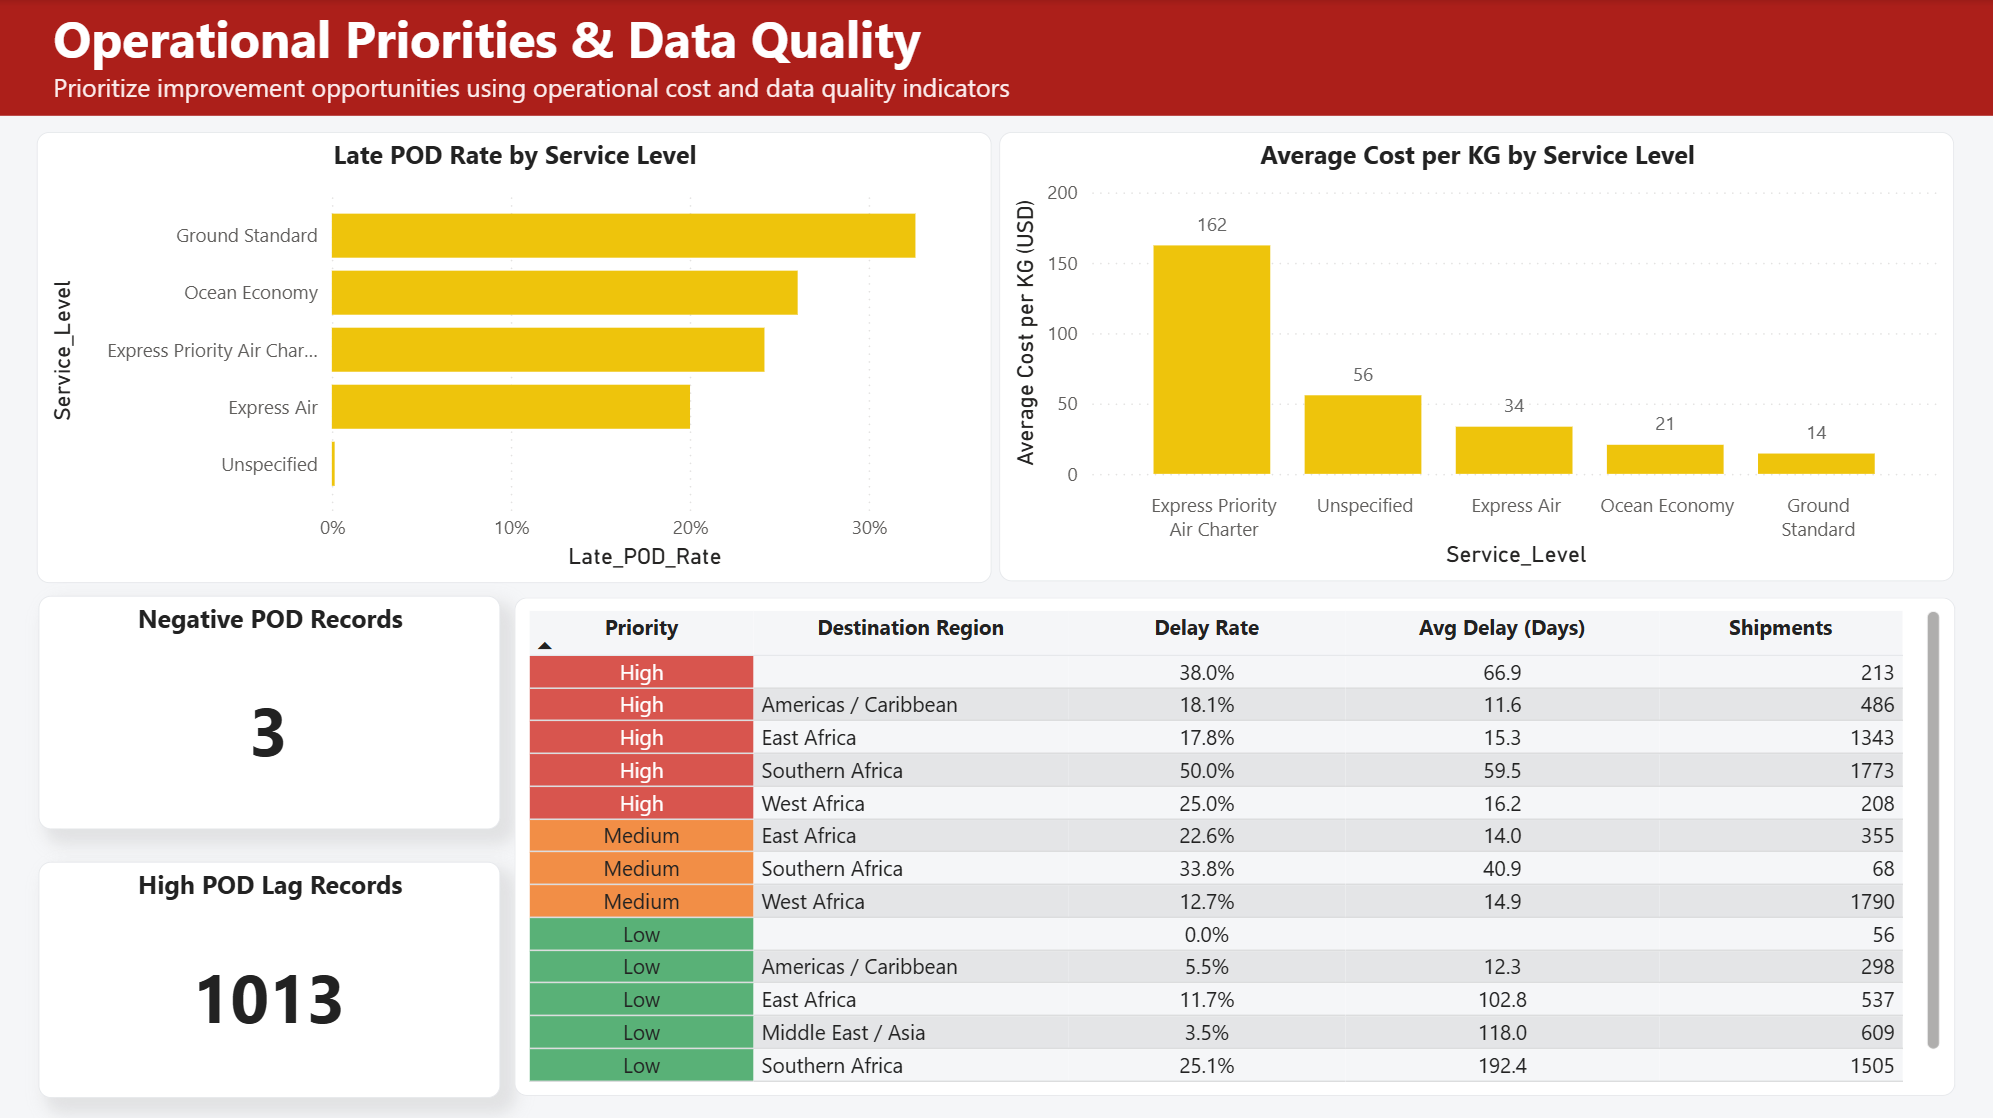

The dashboard page shown, as its layout file describes it:
{"tool":"powerbi","page":{"name":"Operational Priorities","canvas":[1280,720],"ordinal":3},"visuals":[{"type":"shape","title":"Executive Overview","box":[0,0,1280.3,75],"z":0},{"type":"textbox","title":"Operational Priorities & Data Quality","box":[29.6,3.9,1221.9,65.6],"z":1000},{"type":"clusteredBarChart","title":"Late POD Rate by Service Level","fields":{"Category":["qry_08_pod_timeliness_summary.Service_Level"],"Y":["Avg(qry_08_pod_timeliness_summary.Late_POD_Rate)"]},"box":[24,85.2,612,289.4],"z":2000},{"type":"clusteredColumnChart","title":"Average Cost per KG by Service Level","fields":{"Category":["qry_07_cost_per_move_by_service_level.Service_Level"],"Y":["Sum(qry_07_cost_per_move_by_service_level.Avg_Cost_Per_KG)"]},"box":[641,84.9,612,288.1],"z":3000},{"type":"card","title":"Negative POD Records","fields":{"Values":["Sum(qry_08_pod_timeliness_summary.Negative_POD_Lag_Count)"]},"box":[25,382.8,295.9,149.9],"z":4000},{"type":"card","title":"High POD Lag Records","fields":{"Values":["Sum(qry_08_pod_timeliness_summary.High_POD_Lag_Count)"]},"box":[25,552.4,295.9,151.3],"z":5000},{"type":"tableEx","fields":{"Values":["dimPriority.Priority","qry_05_corrective_action_priority_segments.Destination_Region","Sum(qry_05_corrective_action_priority_segments.Delay_Rate)","Sum(qry_05_corrective_action_priority_segments.Avg_Delay_Days)","Sum(qry_05_corrective_action_priority_segments.Shipment_Count)"]},"box":[330.1,384.1,923.4,319.6],"z":6000}]}

Visuals, with their boxes in screenshot pixels (x1, y1, x2, y2), scaled from the page's 1280x720 canvas onto the 1993x1118 screenshot:
"Executive Overview" shape: bbox=[0, 0, 1992, 116]
"Operational Priorities & Data Quality" textbox: bbox=[46, 6, 1949, 108]
"Late POD Rate by Service Level" clusteredBarChart: bbox=[37, 132, 990, 582]
"Average Cost per KG by Service Level" clusteredColumnChart: bbox=[998, 132, 1951, 579]
"Negative POD Records" card: bbox=[39, 594, 500, 827]
"High POD Lag Records" card: bbox=[39, 858, 500, 1093]
tableEx - dimPriority.Priority x qry_05_corrective_action_priority_segments.Destination_Region: bbox=[514, 596, 1952, 1093]
